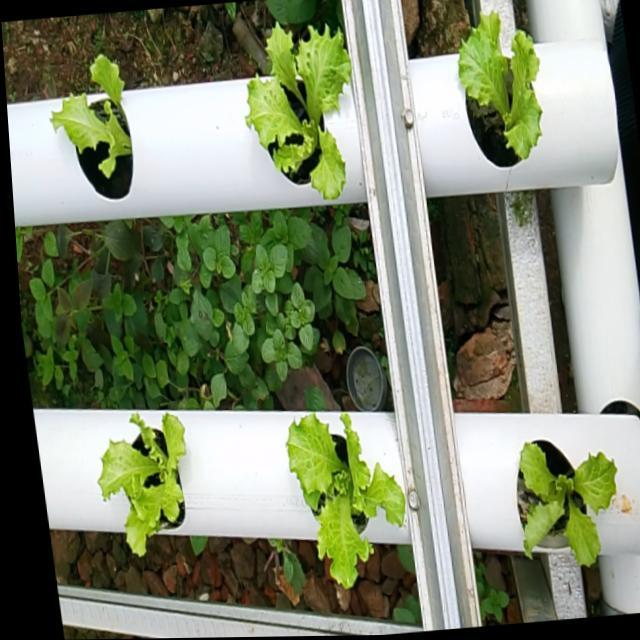Baby: (289, 411, 408, 586), (249, 13, 354, 199), (460, 10, 544, 166), (519, 437, 620, 565), (102, 413, 189, 556), (54, 56, 136, 201)
